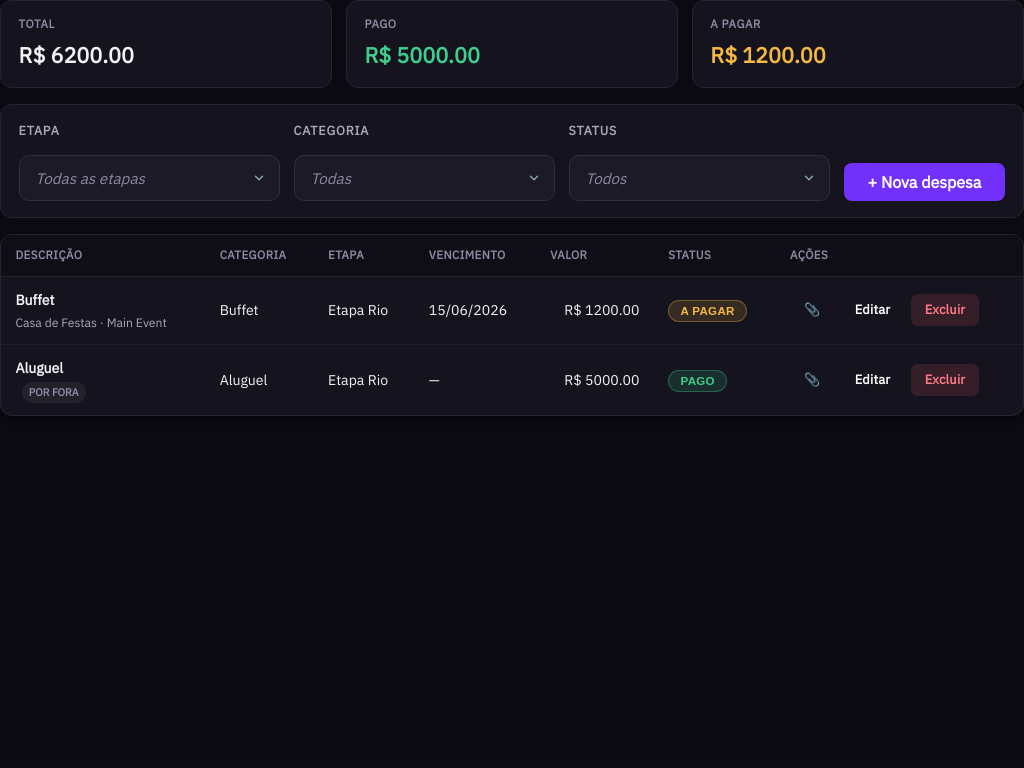
Scenario: criação › etapa é obrigatória
Expected: the row that starts with "Buffet" is shown, [1, 276, 1023, 345]
Click the button "+ Nova despesa" at (924, 182), box [844, 163, 1005, 201]
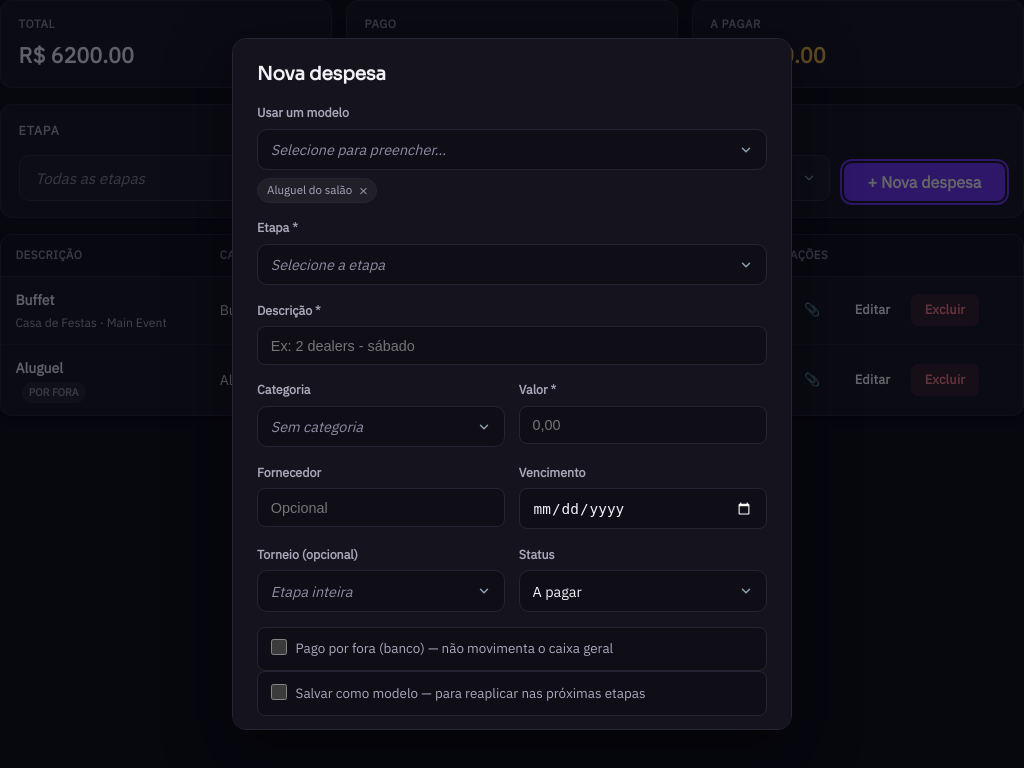
Type "X" into the field with placeholder "Ex: 2 dealers - sábado" at (512, 346), box [257, 326, 767, 365]
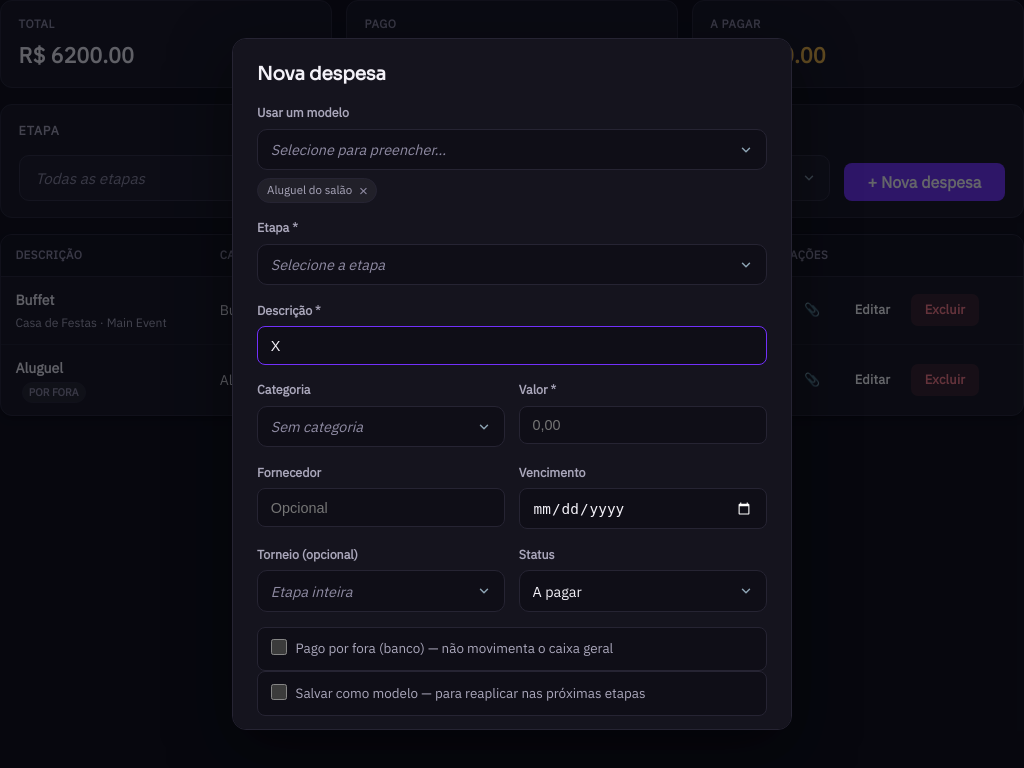
Type "10" into the number field with placeholder "0,00" at (643, 425), box [519, 406, 767, 444]
(page scrolled)
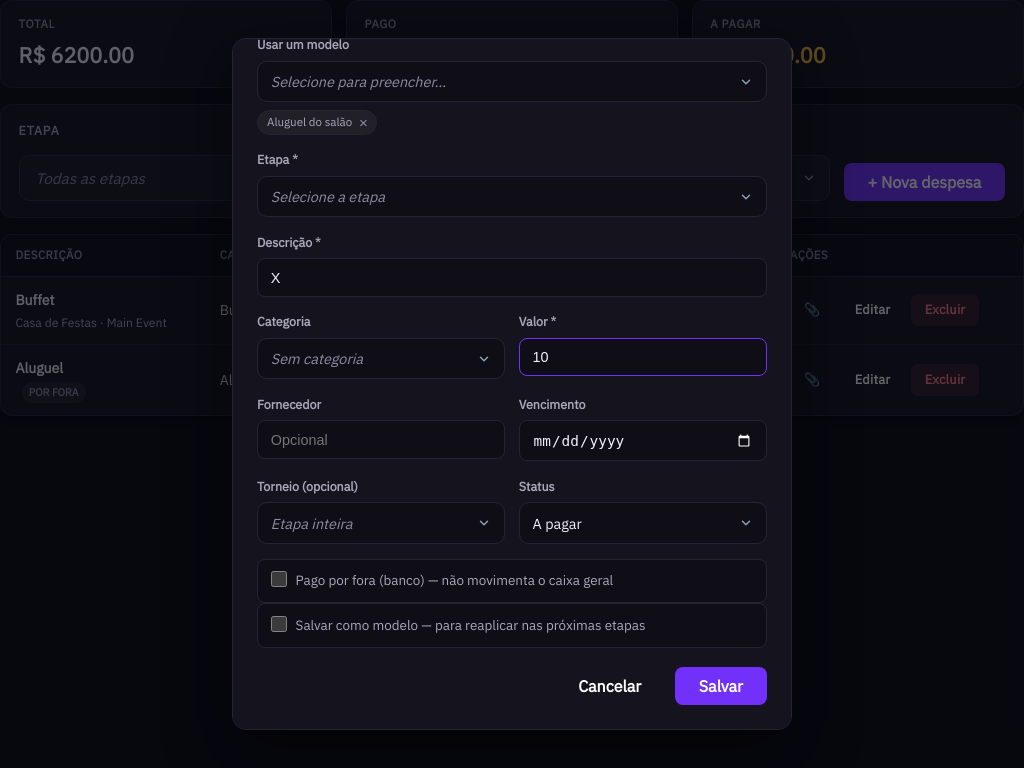
Click the submit button at (721, 686), box [675, 667, 767, 705]
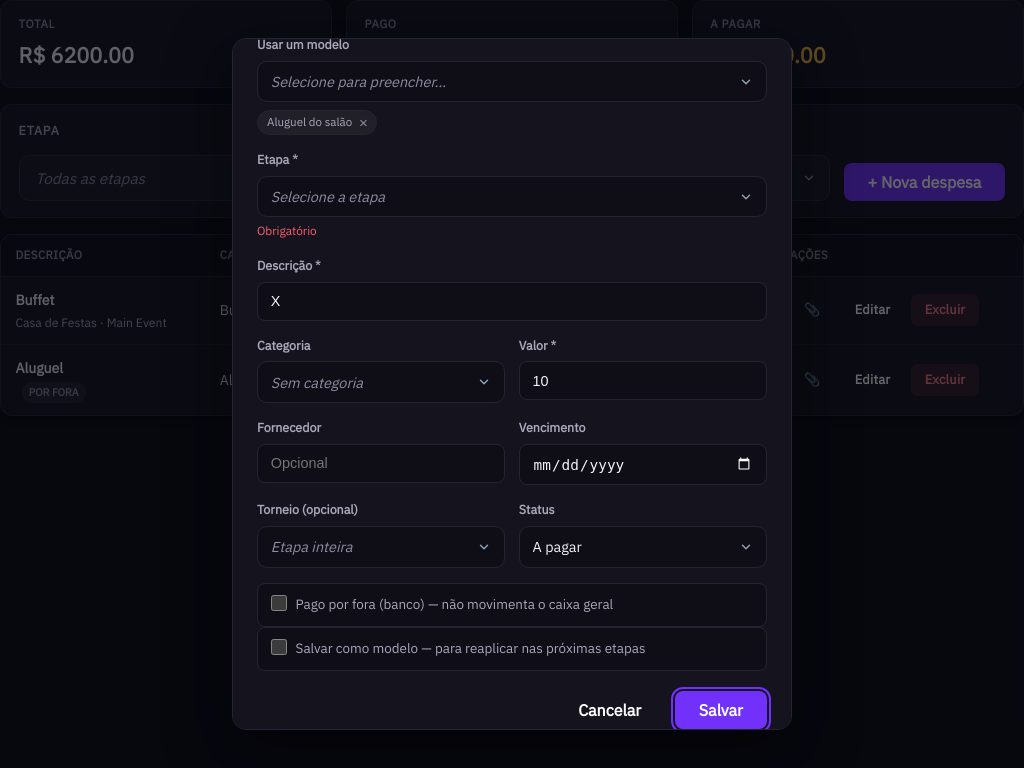
Now the text "Obrigatório" is shown, box [257, 223, 317, 238]
